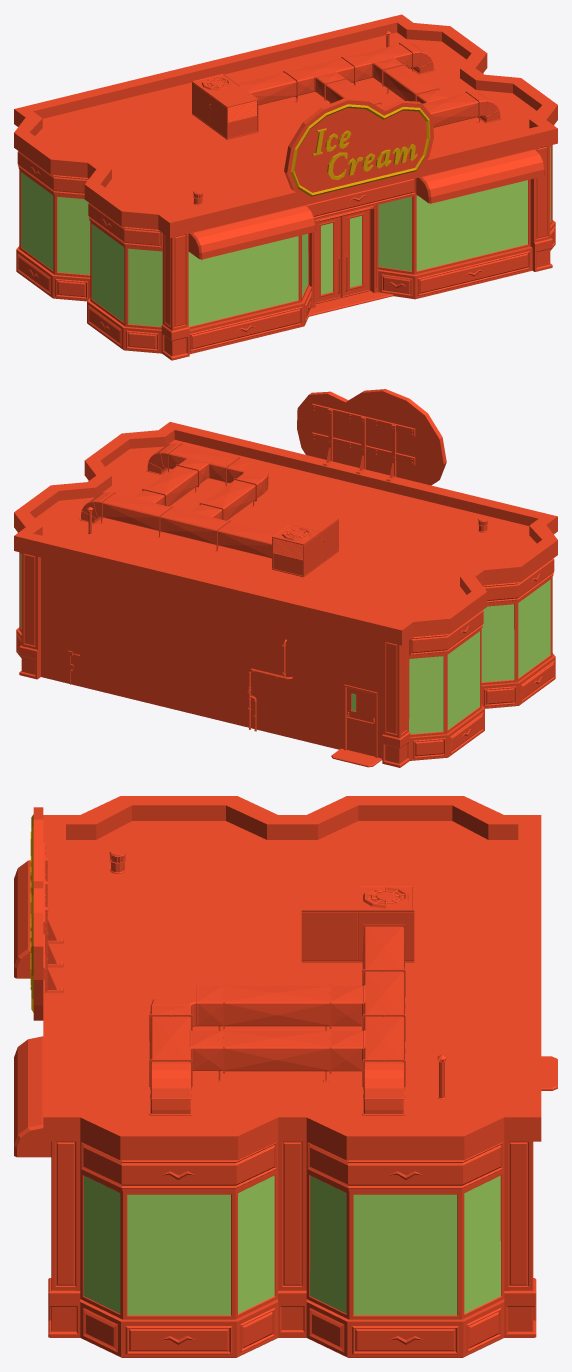
The model's file is SM_Shop_Icecream_City.fbx.
The picture shows the model from 3 angles, top to bottom: view 1: azimuth 30°, elevation 25°; view 2: azimuth 150°, elevation 25°; view 3: azimuth 270°, elevation 25°; orthographic projection. The views are drawn at different scales.
Visible parts, largest first — view 1: SM_Shop_Icecream_City_Base, SM_Shop_Icecream_City_Door_L, SM_Shop_Icecream_City_Door_R; view 2: SM_Shop_Icecream_City_Base, SM_Shop_Icecream_City_Door_B; view 3: SM_Shop_Icecream_City_Base.
Part boxes in pixels (box(x1,y1,x2,y2)): SM_Shop_Icecream_City_Base: box(14, 14, 557, 360); SM_Shop_Icecream_City_Door_L: box(341, 210, 370, 297); SM_Shop_Icecream_City_Door_R: box(315, 217, 341, 303); SM_Shop_Icecream_City_Base: box(14, 389, 557, 767); SM_Shop_Icecream_City_Door_B: box(346, 687, 375, 756); SM_Shop_Icecream_City_Base: box(14, 796, 557, 1357).
Size of the model in its own units: 15.12 by 7.36 by 10.22.
